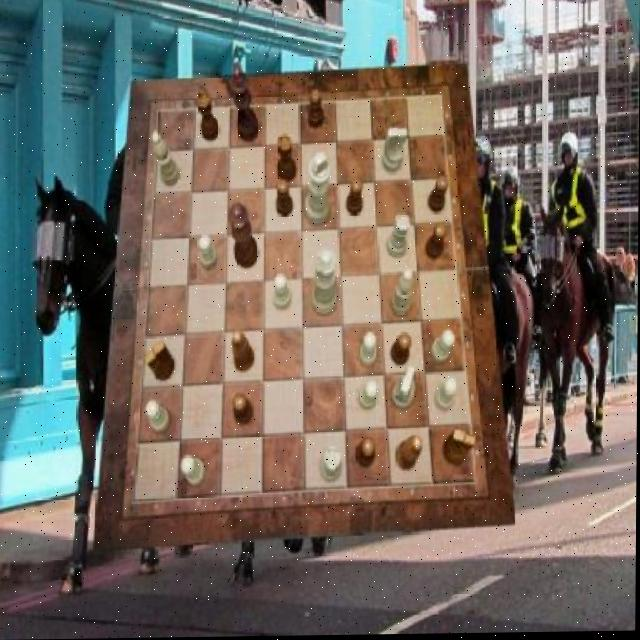bishop: (232, 331, 255, 373), (396, 437, 422, 473)
black-bishop: (229, 63, 260, 143)
black-king: (145, 341, 175, 381), (443, 430, 476, 466)
black-knight: (426, 224, 446, 261), (428, 177, 448, 214), (390, 335, 411, 368), (345, 179, 362, 217), (276, 180, 293, 218), (307, 90, 323, 129), (232, 394, 252, 425), (357, 437, 376, 468)
black-pawn: (228, 205, 259, 271)
black-queen: (196, 93, 219, 142), (278, 135, 296, 183)
black-rook: (151, 132, 179, 186), (391, 271, 414, 317)
white-bishop: (305, 153, 330, 227)
white-king: (382, 128, 407, 173), (392, 367, 416, 410)
white-knight: (145, 401, 170, 434), (431, 332, 455, 366), (435, 379, 458, 413), (180, 456, 205, 487), (273, 275, 291, 311), (198, 236, 217, 270), (360, 332, 378, 367), (358, 382, 378, 411)
white-pawn: (310, 250, 337, 316)
white-queen: (387, 215, 411, 259), (319, 447, 342, 482)
